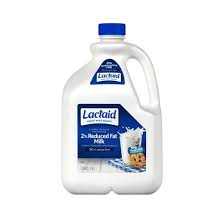milk: (65, 23, 163, 193)
